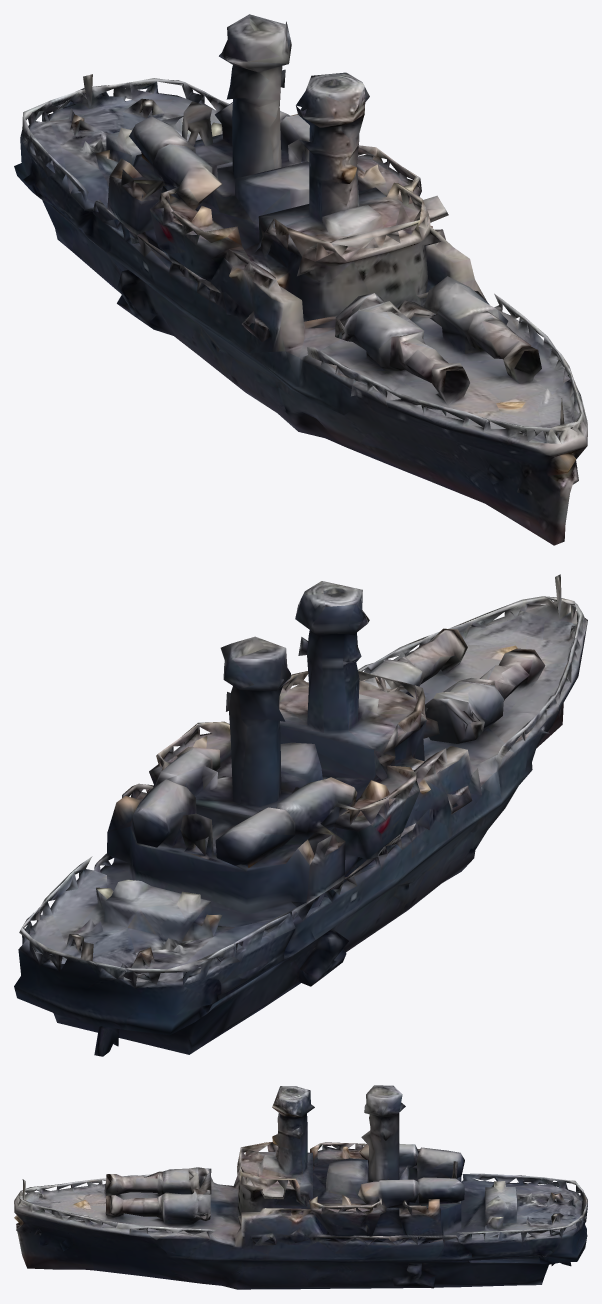
Rendered from p8battleship.glb.
The picture shows the model from 3 angles, top to bottom: view 1: azimuth 30°, elevation 25°; view 2: azimuth 150°, elevation 25°; view 3: azimuth 270°, elevation 25°; orthographic projection. The views are drawn at different scales.
Visible parts, largest first — view 1: tripo_node_a1ee93bd-aae5-43c1-92dc-89721d45a449; view 2: tripo_node_a1ee93bd-aae5-43c1-92dc-89721d45a449; view 3: tripo_node_a1ee93bd-aae5-43c1-92dc-89721d45a449.
Part boxes in pixels (x1=…): tripo_node_a1ee93bd-aae5-43c1-92dc-89721d45a449: x1=14, y1=14, x2=587, y2=545; tripo_node_a1ee93bd-aae5-43c1-92dc-89721d45a449: x1=14, y1=574, x2=587, y2=1056; tripo_node_a1ee93bd-aae5-43c1-92dc-89721d45a449: x1=14, y1=1085, x2=587, y2=1289.
Bounding box in the file's own units: 0.272 × 0.338 × 1.
1 material, 1 textured.
